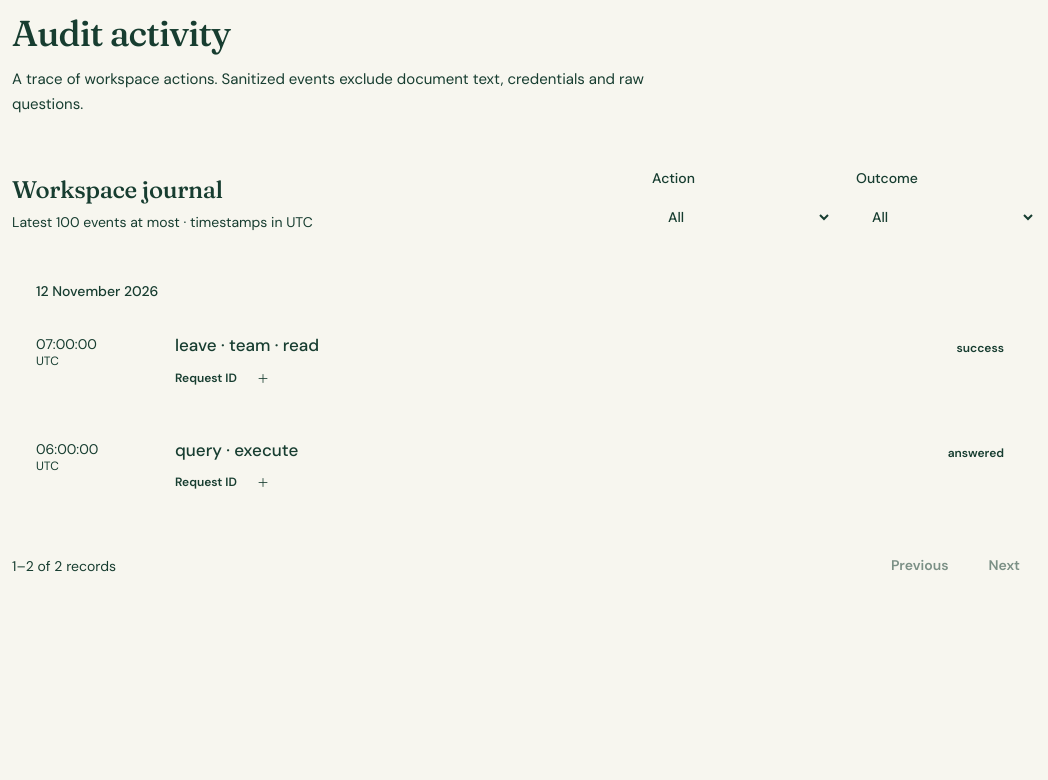
audit filters combine and can reveal a sanitized leave access request ID
Expected: the heading "leave · team · read" is shown, 175,334 -> 319,356
Select "leave.team.read" in the dropdown labelled "Action" at (742, 217), box 652,195 -> 832,239
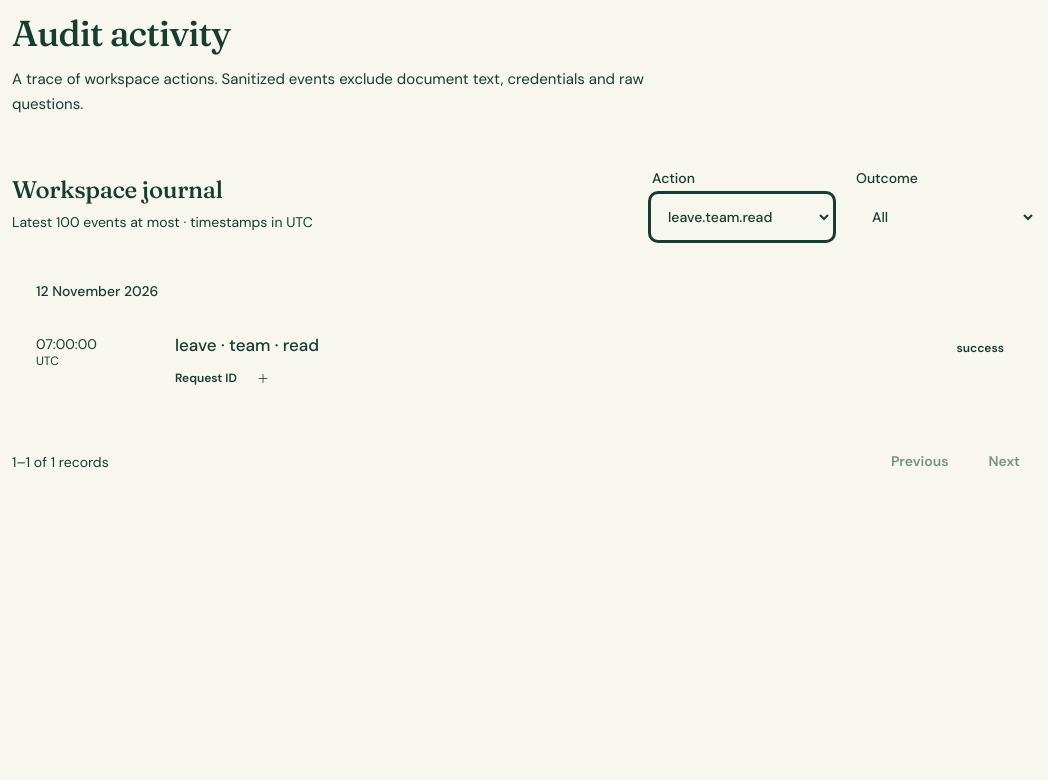
Expected: the heading "query · execute" is gone
Click the heading "Request ID".
click(206, 378)  # box 175,370 -> 237,386
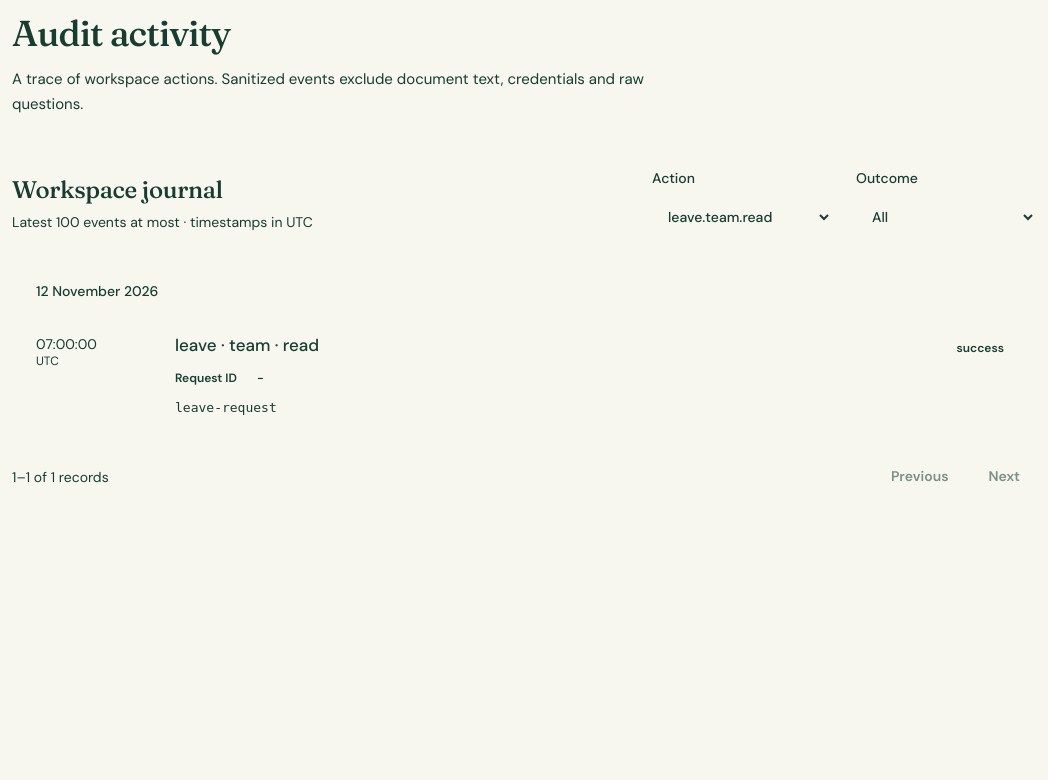
Expected: the text "leave-request" is shown, 175,400 -> 277,415
Select "answered" in the dropdown labelled "Outcome" at (946, 217), box 856,195 -> 1036,239
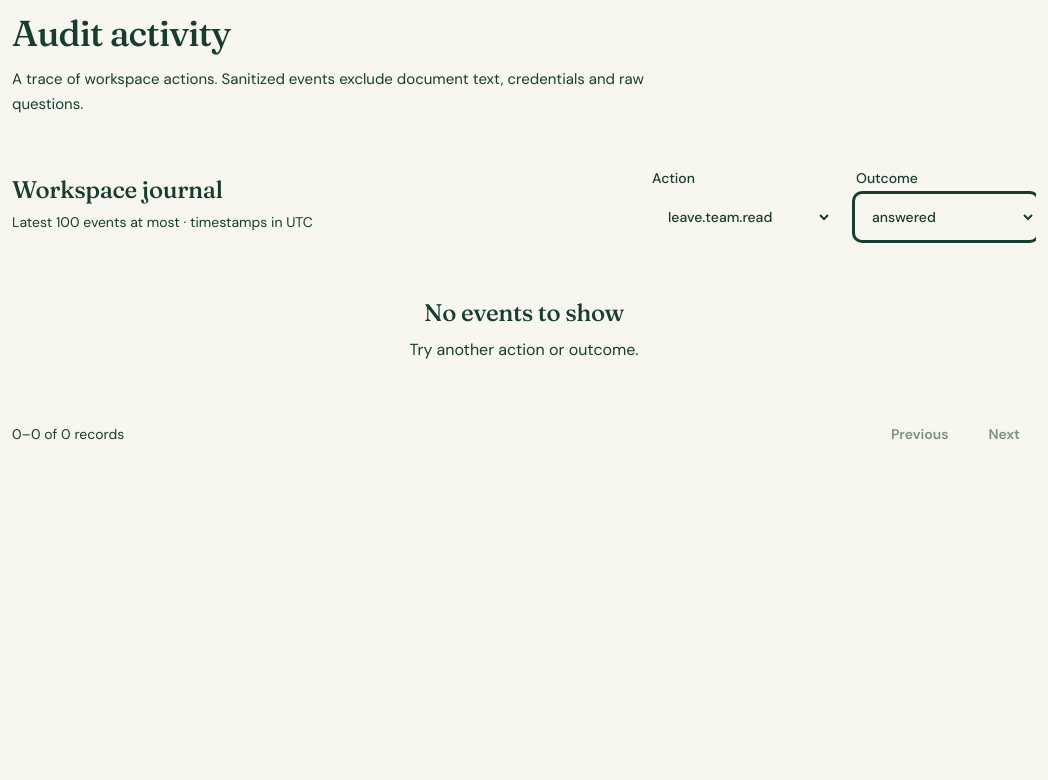
Expected: the heading "No events to show" is shown, 424,298 -> 624,327
Expected: the text "leave-request" is gone
